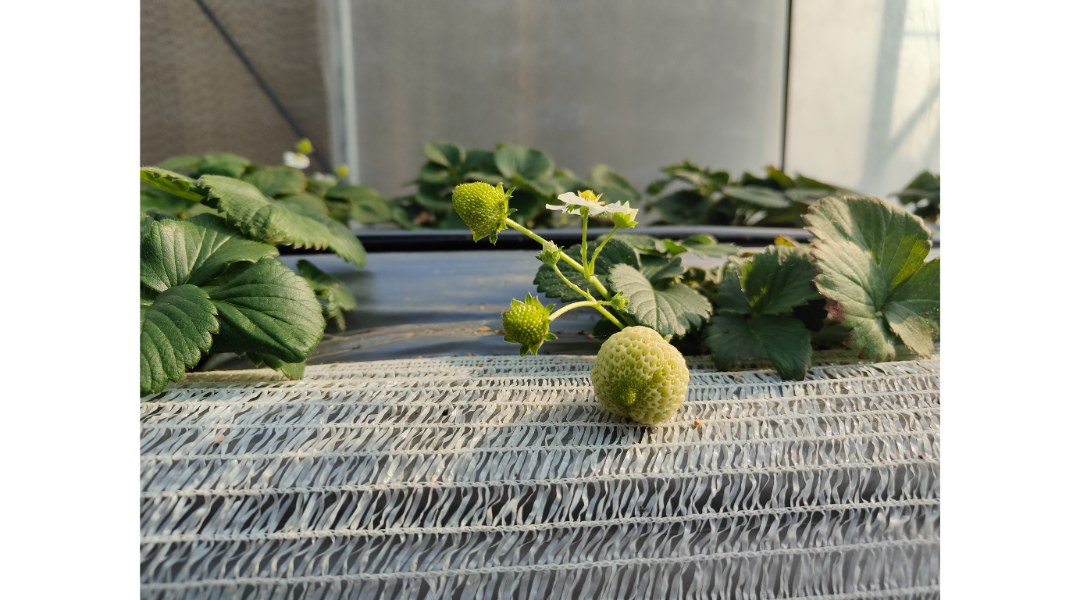berry: (591, 316, 698, 446), (447, 174, 526, 242), (496, 286, 561, 350)
flower: (543, 178, 610, 225), (594, 195, 647, 230)
strain: (589, 229, 614, 270), (553, 297, 583, 319), (516, 222, 541, 246), (556, 271, 581, 293)
